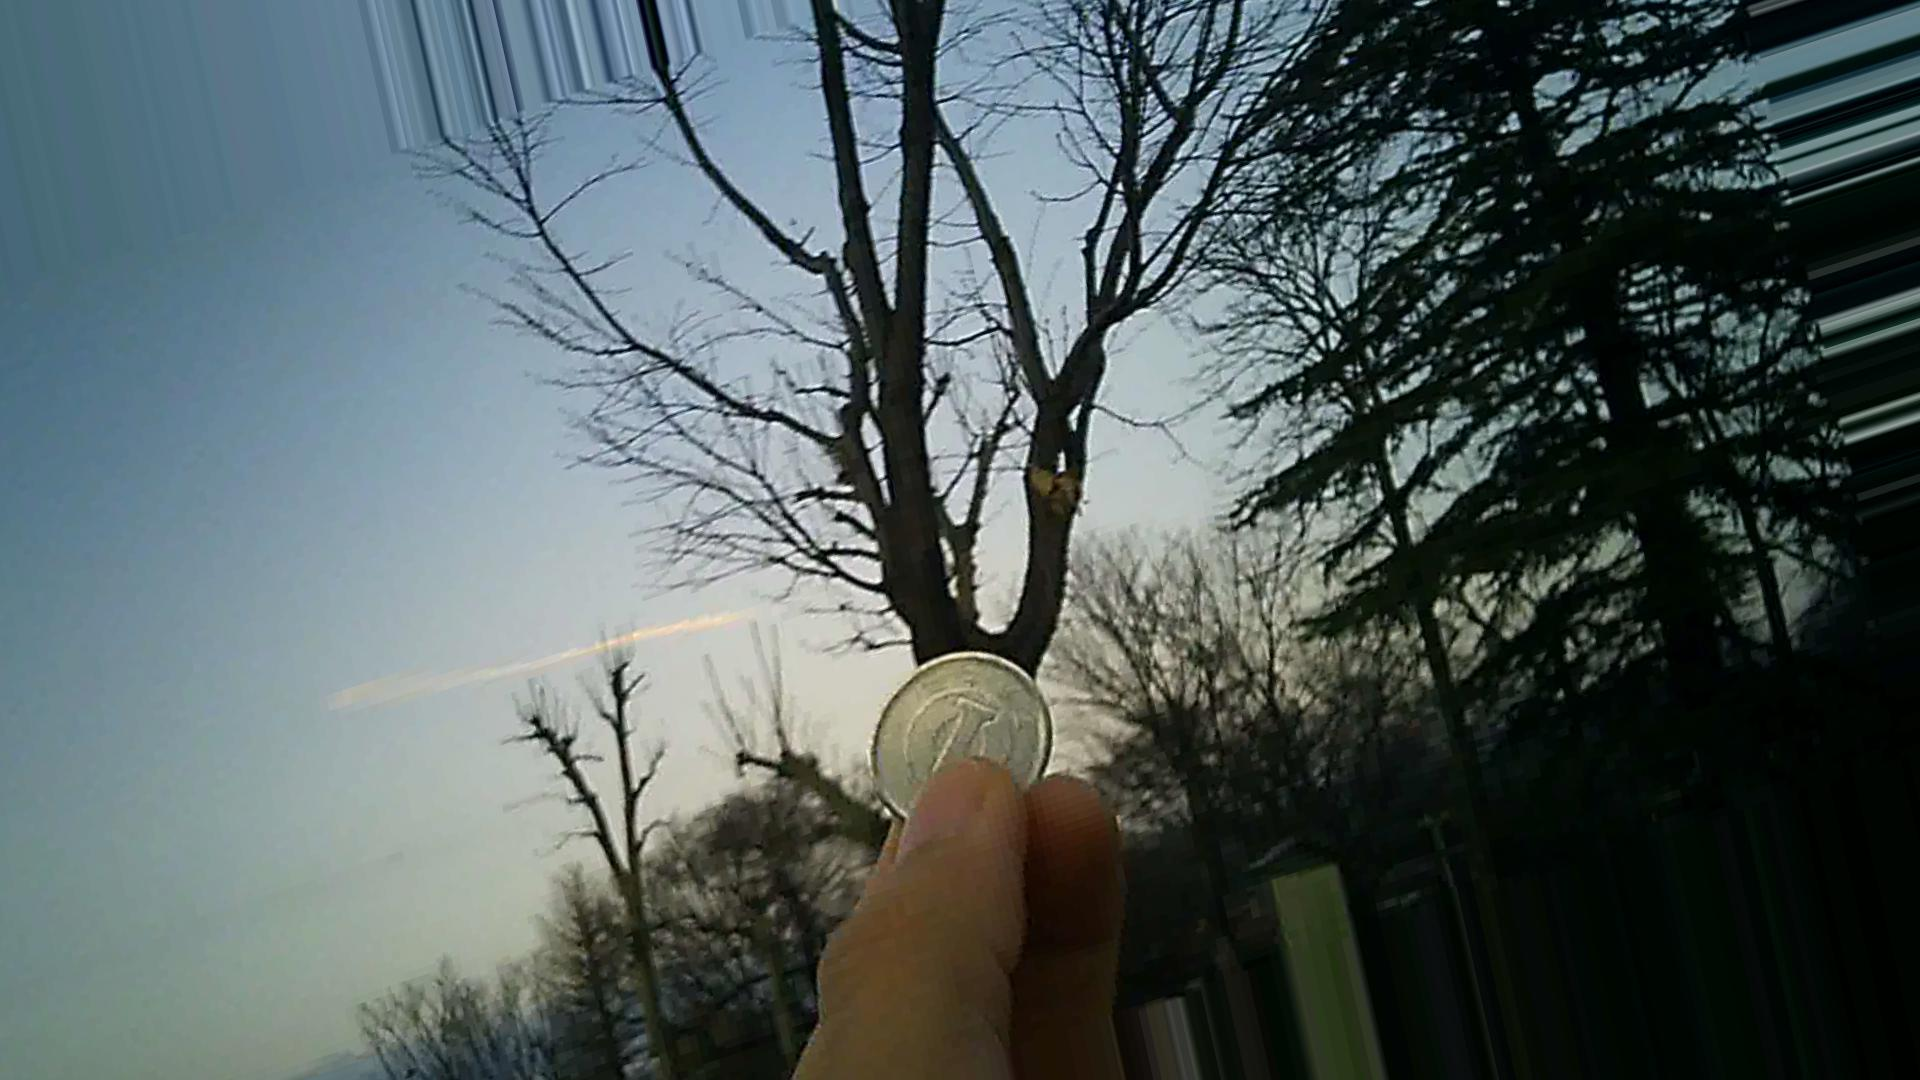1 Yen: (841, 632, 1062, 814)
